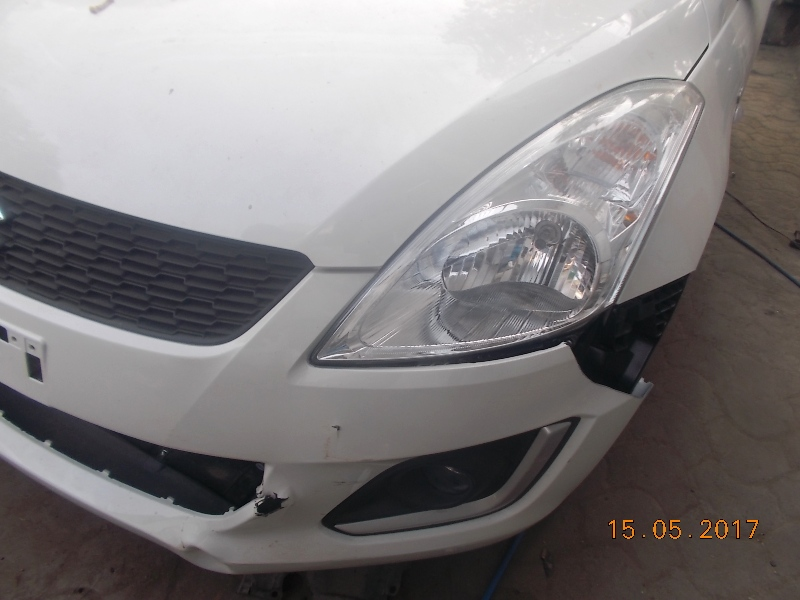Scratch_or_spot: (253, 492, 288, 522)
Tear: (557, 339, 643, 399)
